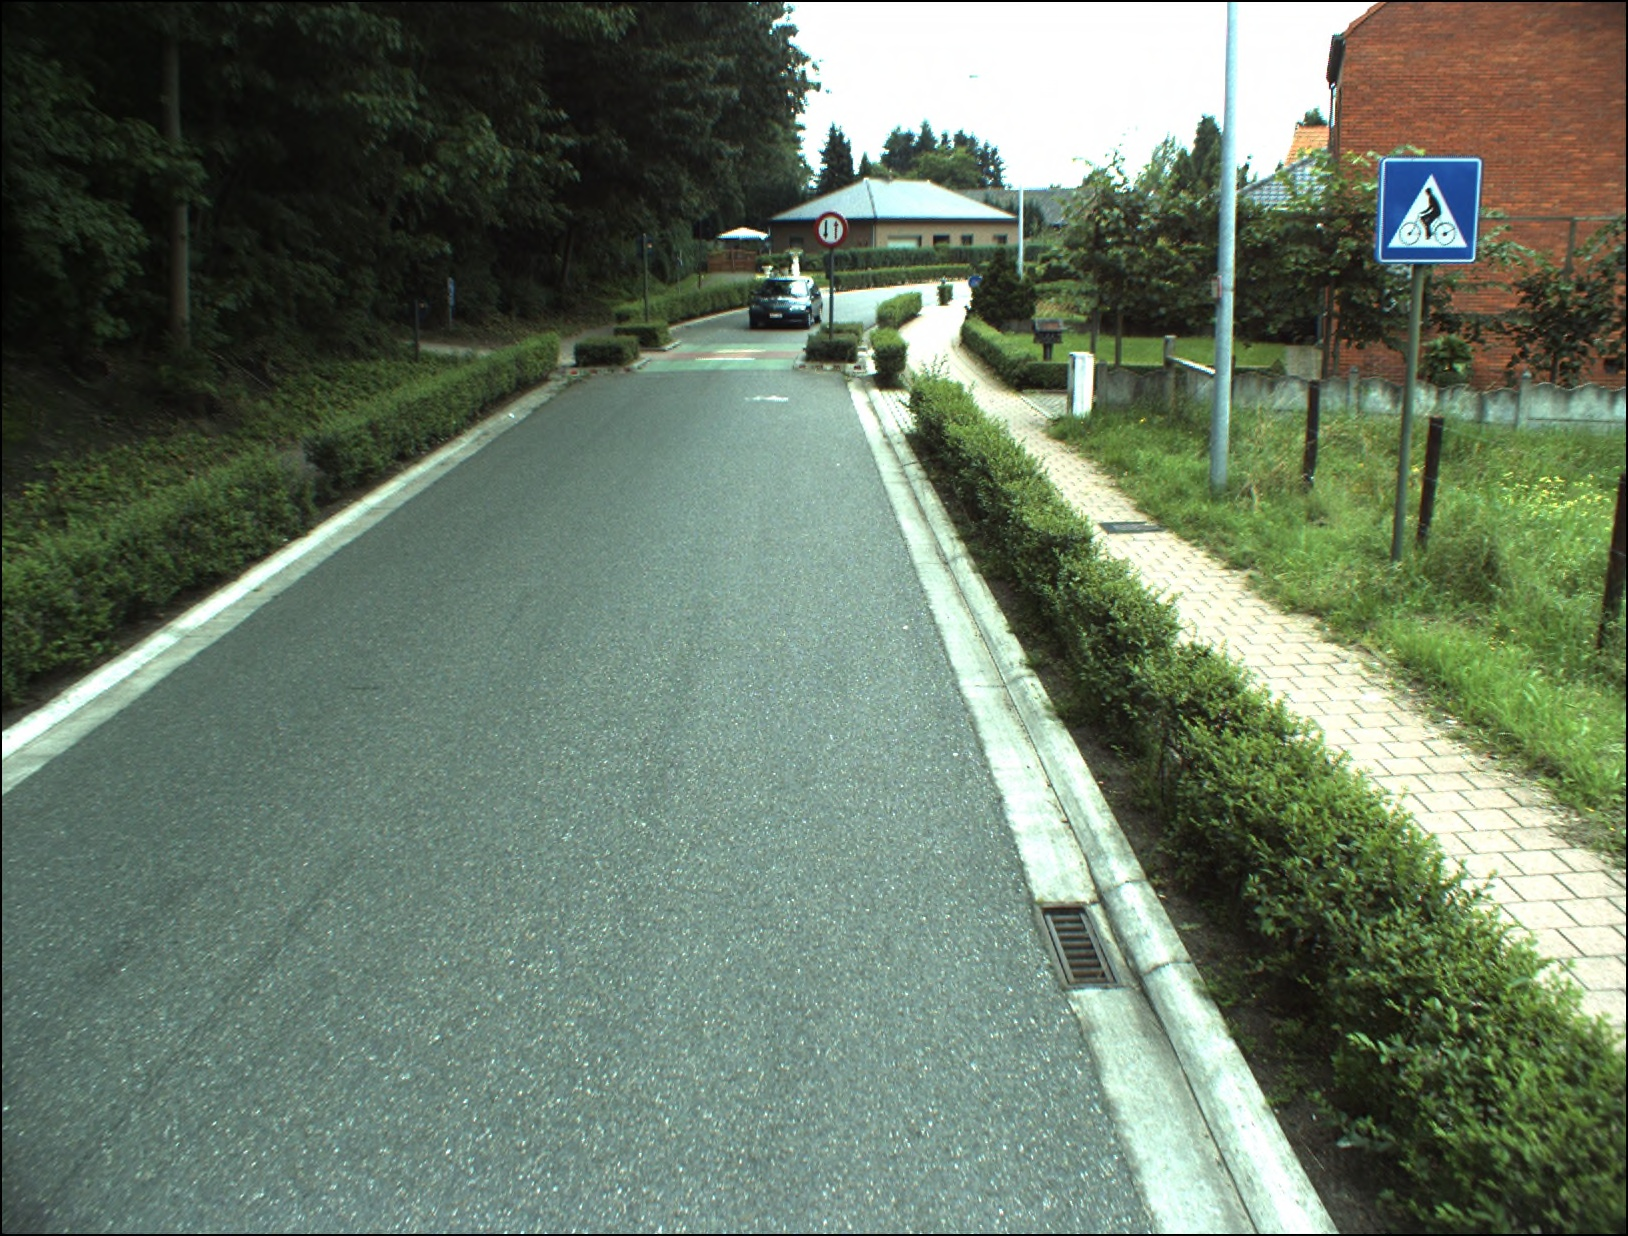roadnarrow2: (814, 209, 846, 247)
